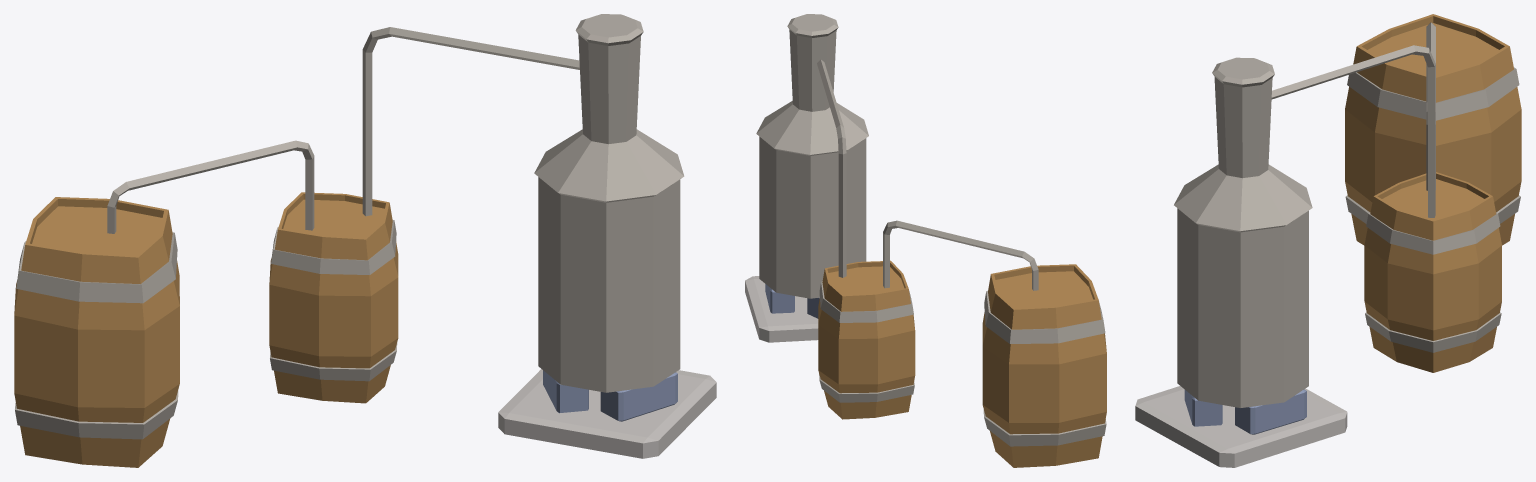
File: Distillery.glb
3 views of the same model, side by side, from view 1: azimuth 30°, elevation 25°; view 2: azimuth 150°, elevation 25°; view 3: azimuth 270°, elevation 25° (orthographic). The views are drawn at different scales.
Visible parts, largest first — view 1: cuve_distillateur, tonneau.001, tonneau, socle, tuyau, tuyau.001, pierre.002, pierre; view 2: tonneau.001, cuve_distillateur, tonneau, socle, tuyau, tuyau.001, pierre.001; view 3: cuve_distillateur, tonneau.001, tonneau, socle, tuyau, pierre.001, pierre.002, tuyau.001.
Part boxes in pixels (x1,y1,x2,y2): cuve_distillateur: (534,14,684,392); tonneau.001: (14,197,179,467); tonneau: (269,192,398,403); socle: (498,369,716,458); tuyau: (362,27,579,216); tuyau.001: (107,140,314,233); pierre.002: (600,372,677,421); pierre: (543,370,588,413); tonneau.001: (982,264,1106,467); cuve_distillateur: (756,14,868,298); tonneau: (818,260,915,419); socle: (745,276,818,342); tuyau: (817,59,846,277); tuyau.001: (883,220,1038,290); pierre.001: (765,284,794,313); cuve_distillateur: (1174,57,1312,407); tonneau.001: (1345,14,1521,245); tonneau: (1364,172,1501,372); socle: (1135,386,1347,467); tuyau: (1271,45,1435,217); pierre.001: (1235,389,1306,434); pierre.002: (1184,390,1222,426); tuyau.001: (1426,22,1435,190).
Bounding box in the file's own units: 3.86 × 2.42 × 2.37.
